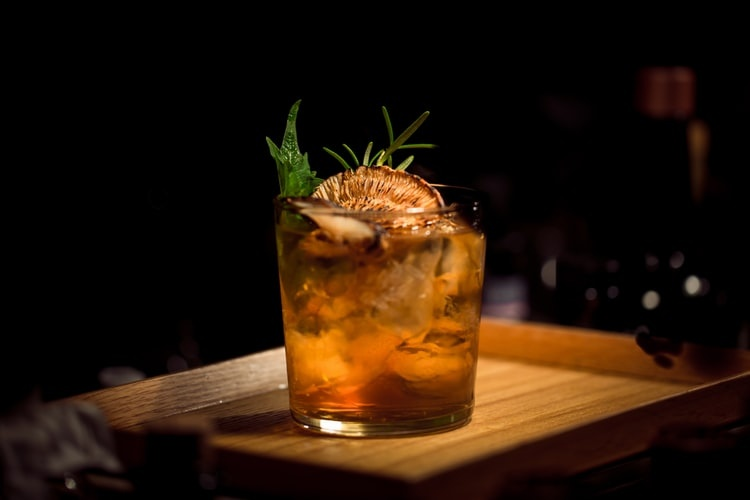whiskey: (271, 182, 489, 440)
